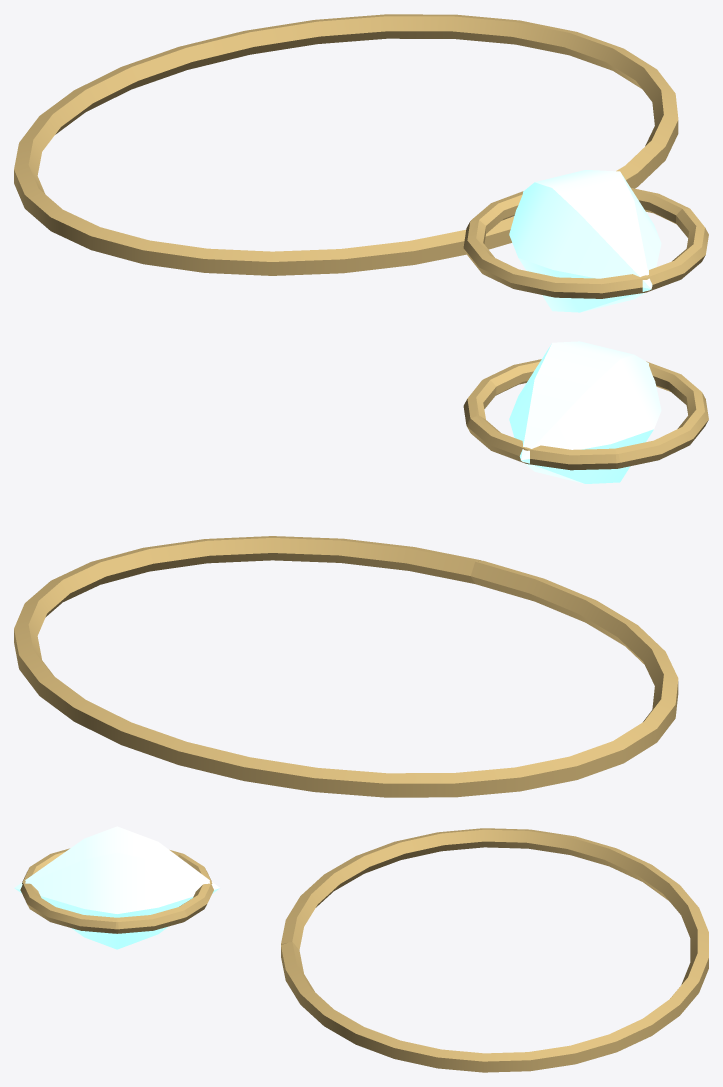
File: tc_convergence_prism.glb
3 renders of one model, top to bottom at view 1: azimuth 30°, elevation 25°; view 2: azimuth 150°, elevation 25°; view 3: azimuth 270°, elevation 25°, orthographic. The views are drawn at different scales.
Visible parts, largest first — view 1: tc_convergence_prism; view 2: tc_convergence_prism; view 3: tc_convergence_prism.
Part boxes in pixels (bbox=[...]): tc_convergence_prism: bbox=[14, 14, 708, 312]; tc_convergence_prism: bbox=[14, 341, 708, 797]; tc_convergence_prism: bbox=[14, 826, 708, 1072].
Bounding box in the file's own units: 0.0803 × 0.0192 × 0.101.
